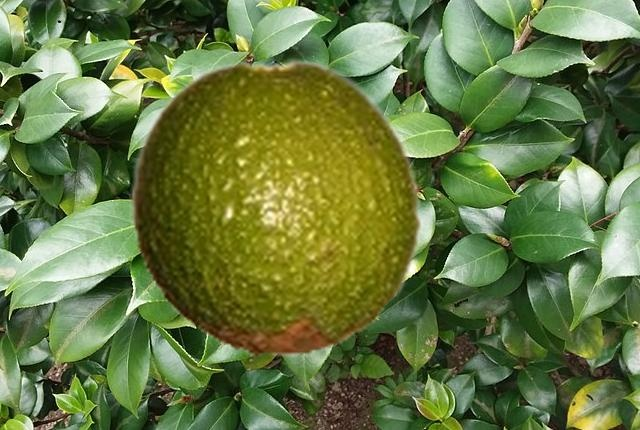avocado: (129, 58, 424, 357)
